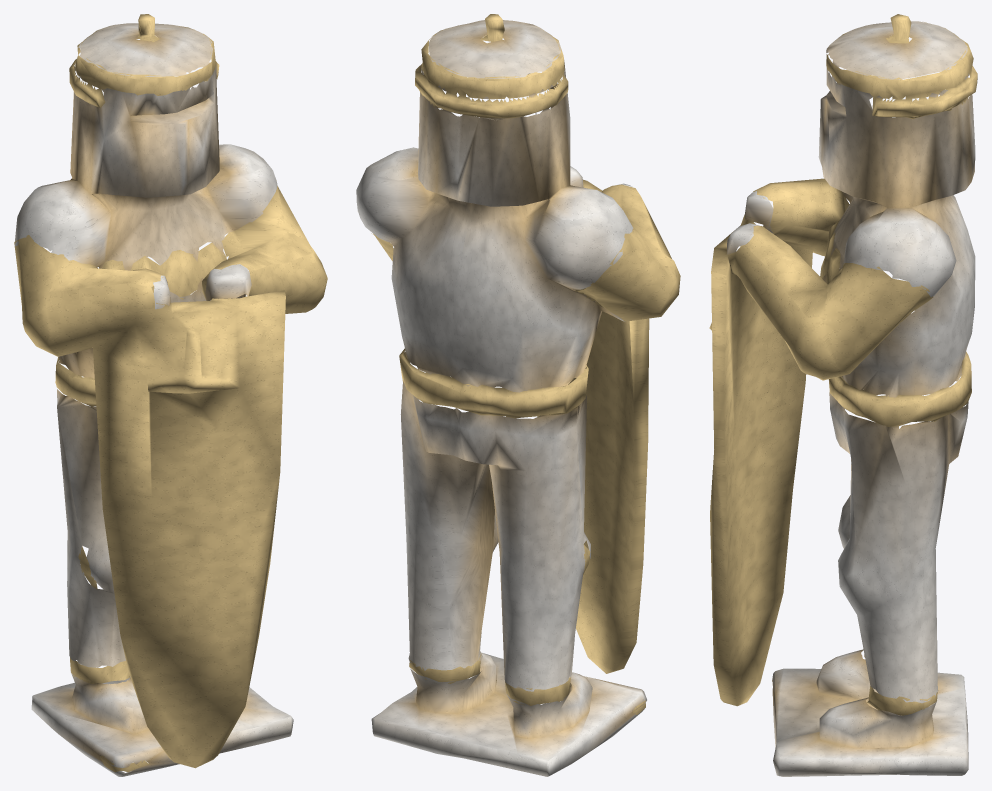
File: Argent_Reliquary_White_Knight.glb
3 renders of one model, left to right at view 1: azimuth 30°, elevation 25°; view 2: azimuth 150°, elevation 25°; view 3: azimuth 270°, elevation 25°, orthographic. The views are drawn at different scales.
Parts seen in each view (by area): view 1: Argent Reliquary – White Knight; view 2: Argent Reliquary – White Knight; view 3: Argent Reliquary – White Knight.
Boxes of the visible parts, x1=… form: Argent Reliquary – White Knight: x1=14, y1=14, x2=327, y2=776; Argent Reliquary – White Knight: x1=356, y1=14, x2=680, y2=776; Argent Reliquary – White Knight: x1=709, y1=14, x2=977, y2=776.
Size of the model in its own units: 0.0321 by 0.0749 by 0.0253.
2 materials, 2 textured.
